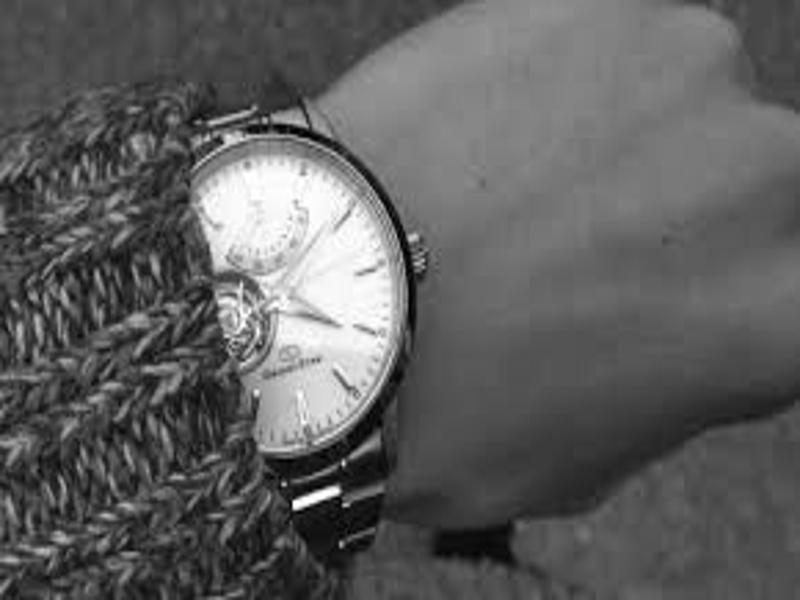watch: (179, 103, 433, 563)
